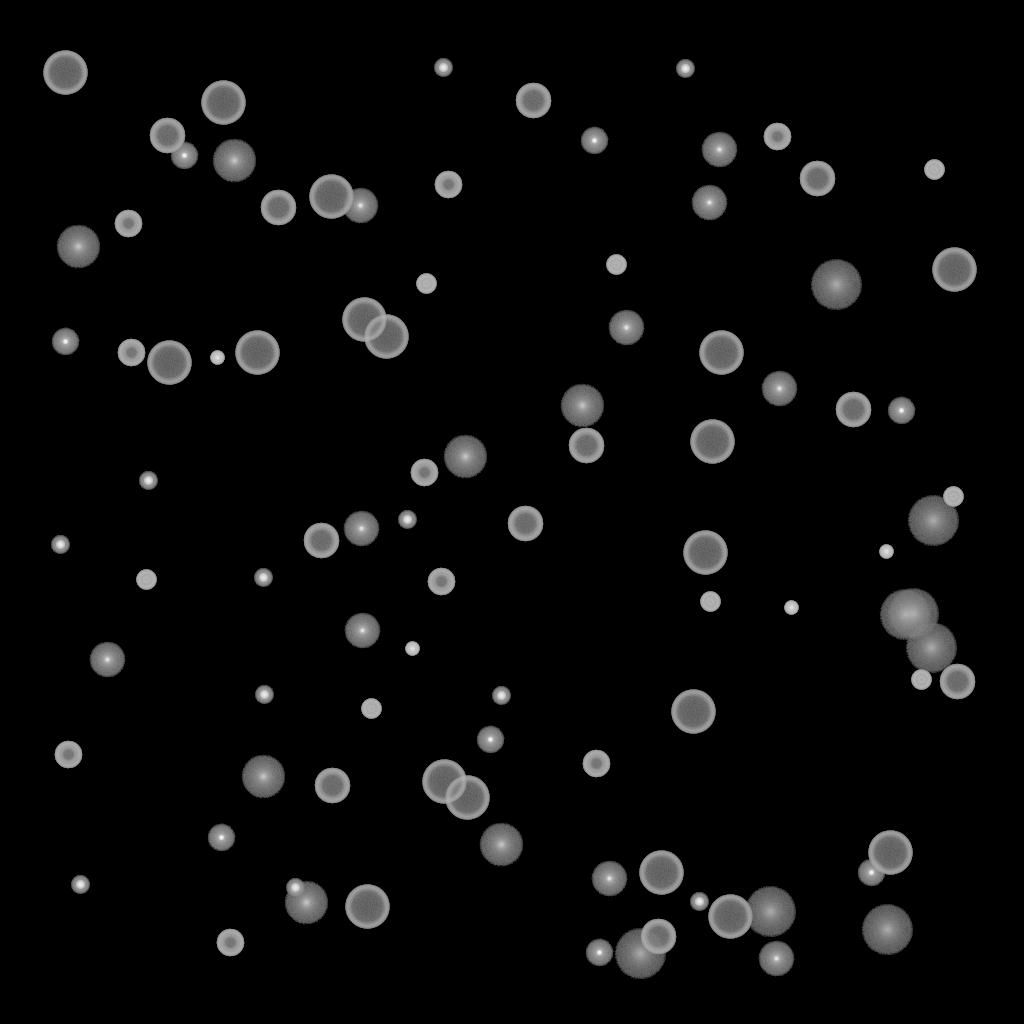depth:-10: (580, 127, 608, 155), (887, 397, 915, 425), (207, 824, 235, 852), (51, 328, 79, 356), (585, 939, 613, 967), (170, 142, 198, 170), (476, 726, 504, 754), (857, 859, 885, 887)
depth:-20: (434, 59, 452, 77), (690, 893, 708, 911), (255, 686, 273, 704), (676, 60, 694, 78), (286, 879, 304, 897), (71, 876, 89, 894), (492, 687, 510, 705), (398, 511, 416, 529), (254, 569, 272, 587), (139, 472, 157, 490), (51, 536, 69, 554)
depth:-30: (405, 642, 419, 656), (879, 545, 893, 559), (784, 601, 798, 615), (210, 351, 224, 365)
depth:-40: (911, 670, 931, 690), (361, 699, 381, 719), (943, 487, 963, 507), (416, 274, 436, 294), (606, 255, 626, 275), (700, 592, 720, 612), (924, 160, 944, 180), (136, 570, 156, 590)
depth:-50: (216, 929, 244, 957), (54, 741, 82, 769), (114, 210, 142, 238), (582, 750, 610, 778), (117, 339, 145, 367), (434, 171, 462, 199), (763, 123, 791, 151), (427, 568, 455, 596), (410, 459, 438, 487)
depth:-60: (939, 664, 975, 700), (149, 118, 185, 154), (835, 392, 871, 428), (507, 506, 543, 542), (799, 161, 835, 197), (314, 768, 350, 804), (303, 523, 339, 559), (260, 190, 296, 226), (515, 83, 551, 119), (568, 428, 604, 464), (640, 919, 676, 955)
depth:-70: (43, 51, 87, 95), (671, 690, 715, 734), (932, 248, 976, 292), (364, 315, 408, 359), (309, 175, 353, 219), (147, 341, 191, 385), (690, 420, 734, 464), (342, 298, 386, 342), (345, 885, 389, 929), (445, 776, 489, 820), (201, 81, 245, 125), (868, 831, 912, 875), (699, 331, 743, 375), (639, 851, 683, 895), (708, 895, 752, 939), (683, 531, 727, 575), (422, 760, 466, 804), (235, 331, 279, 375)
depth:0: (758, 941, 794, 977), (608, 310, 644, 346), (591, 861, 627, 897), (342, 188, 378, 224), (344, 613, 380, 649), (343, 511, 379, 547), (89, 642, 125, 678), (761, 371, 797, 407), (701, 132, 737, 168), (691, 185, 727, 221)
depth:10: (212, 139, 256, 183), (479, 823, 523, 867), (56, 225, 100, 269), (443, 435, 487, 479), (241, 755, 285, 799), (284, 881, 328, 925), (560, 384, 604, 428)
depth:20: (907, 496, 959, 546), (861, 905, 913, 955), (905, 623, 957, 673), (810, 260, 862, 310), (614, 929, 666, 979), (879, 590, 931, 640), (744, 887, 796, 937), (887, 589, 939, 639)
